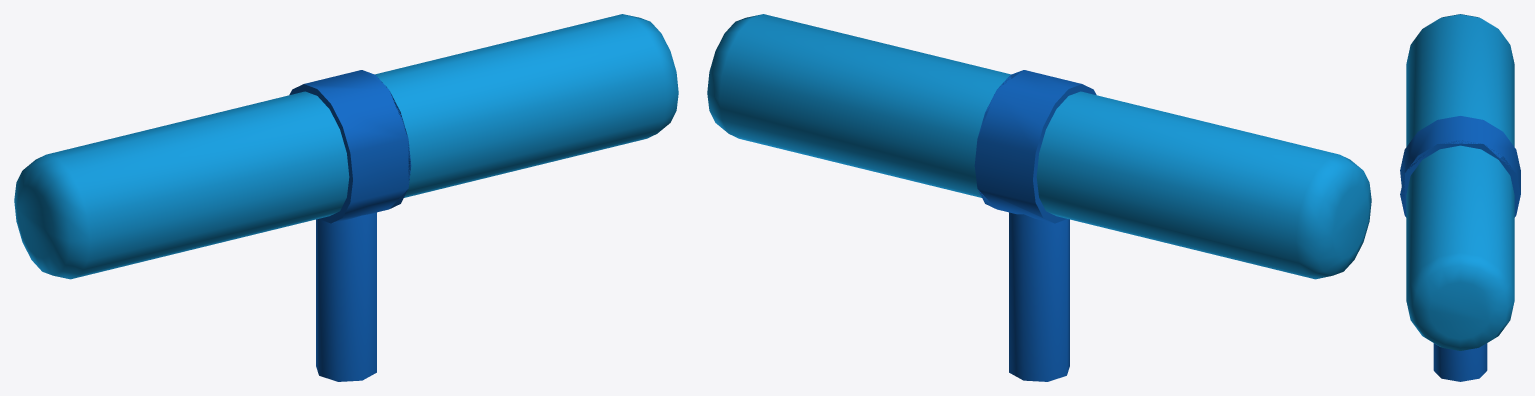
File: rotation_blue.fbx
3 views of the same model, side by side, from view 1: azimuth 30°, elevation 25°; view 2: azimuth 150°, elevation 25°; view 3: azimuth 270°, elevation 25° (orthographic). The views are drawn at different scales.
Parts seen in each view (by area): view 1: rotation_blue; view 2: rotation_blue; view 3: rotation_blue.
Boxes of the visible parts, x1,y1,x2,y2 form: rotation_blue: (14,14,678,381); rotation_blue: (707,14,1371,381); rotation_blue: (1400,14,1520,381).
Size of the model in its own units: 0.6028 by 0.2659 by 0.1199.
